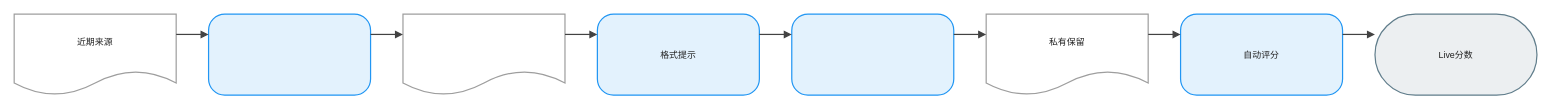
Some shapes in this 1552 by 110 pixel diagram are drawn without their labels. The box of each missing label's shape, as (x1, y1, x2, y2) in pixels:
六类任务: (208, 13, 371, 95)
客观答案: (402, 13, 565, 95)
月度更新: (791, 13, 954, 95)
